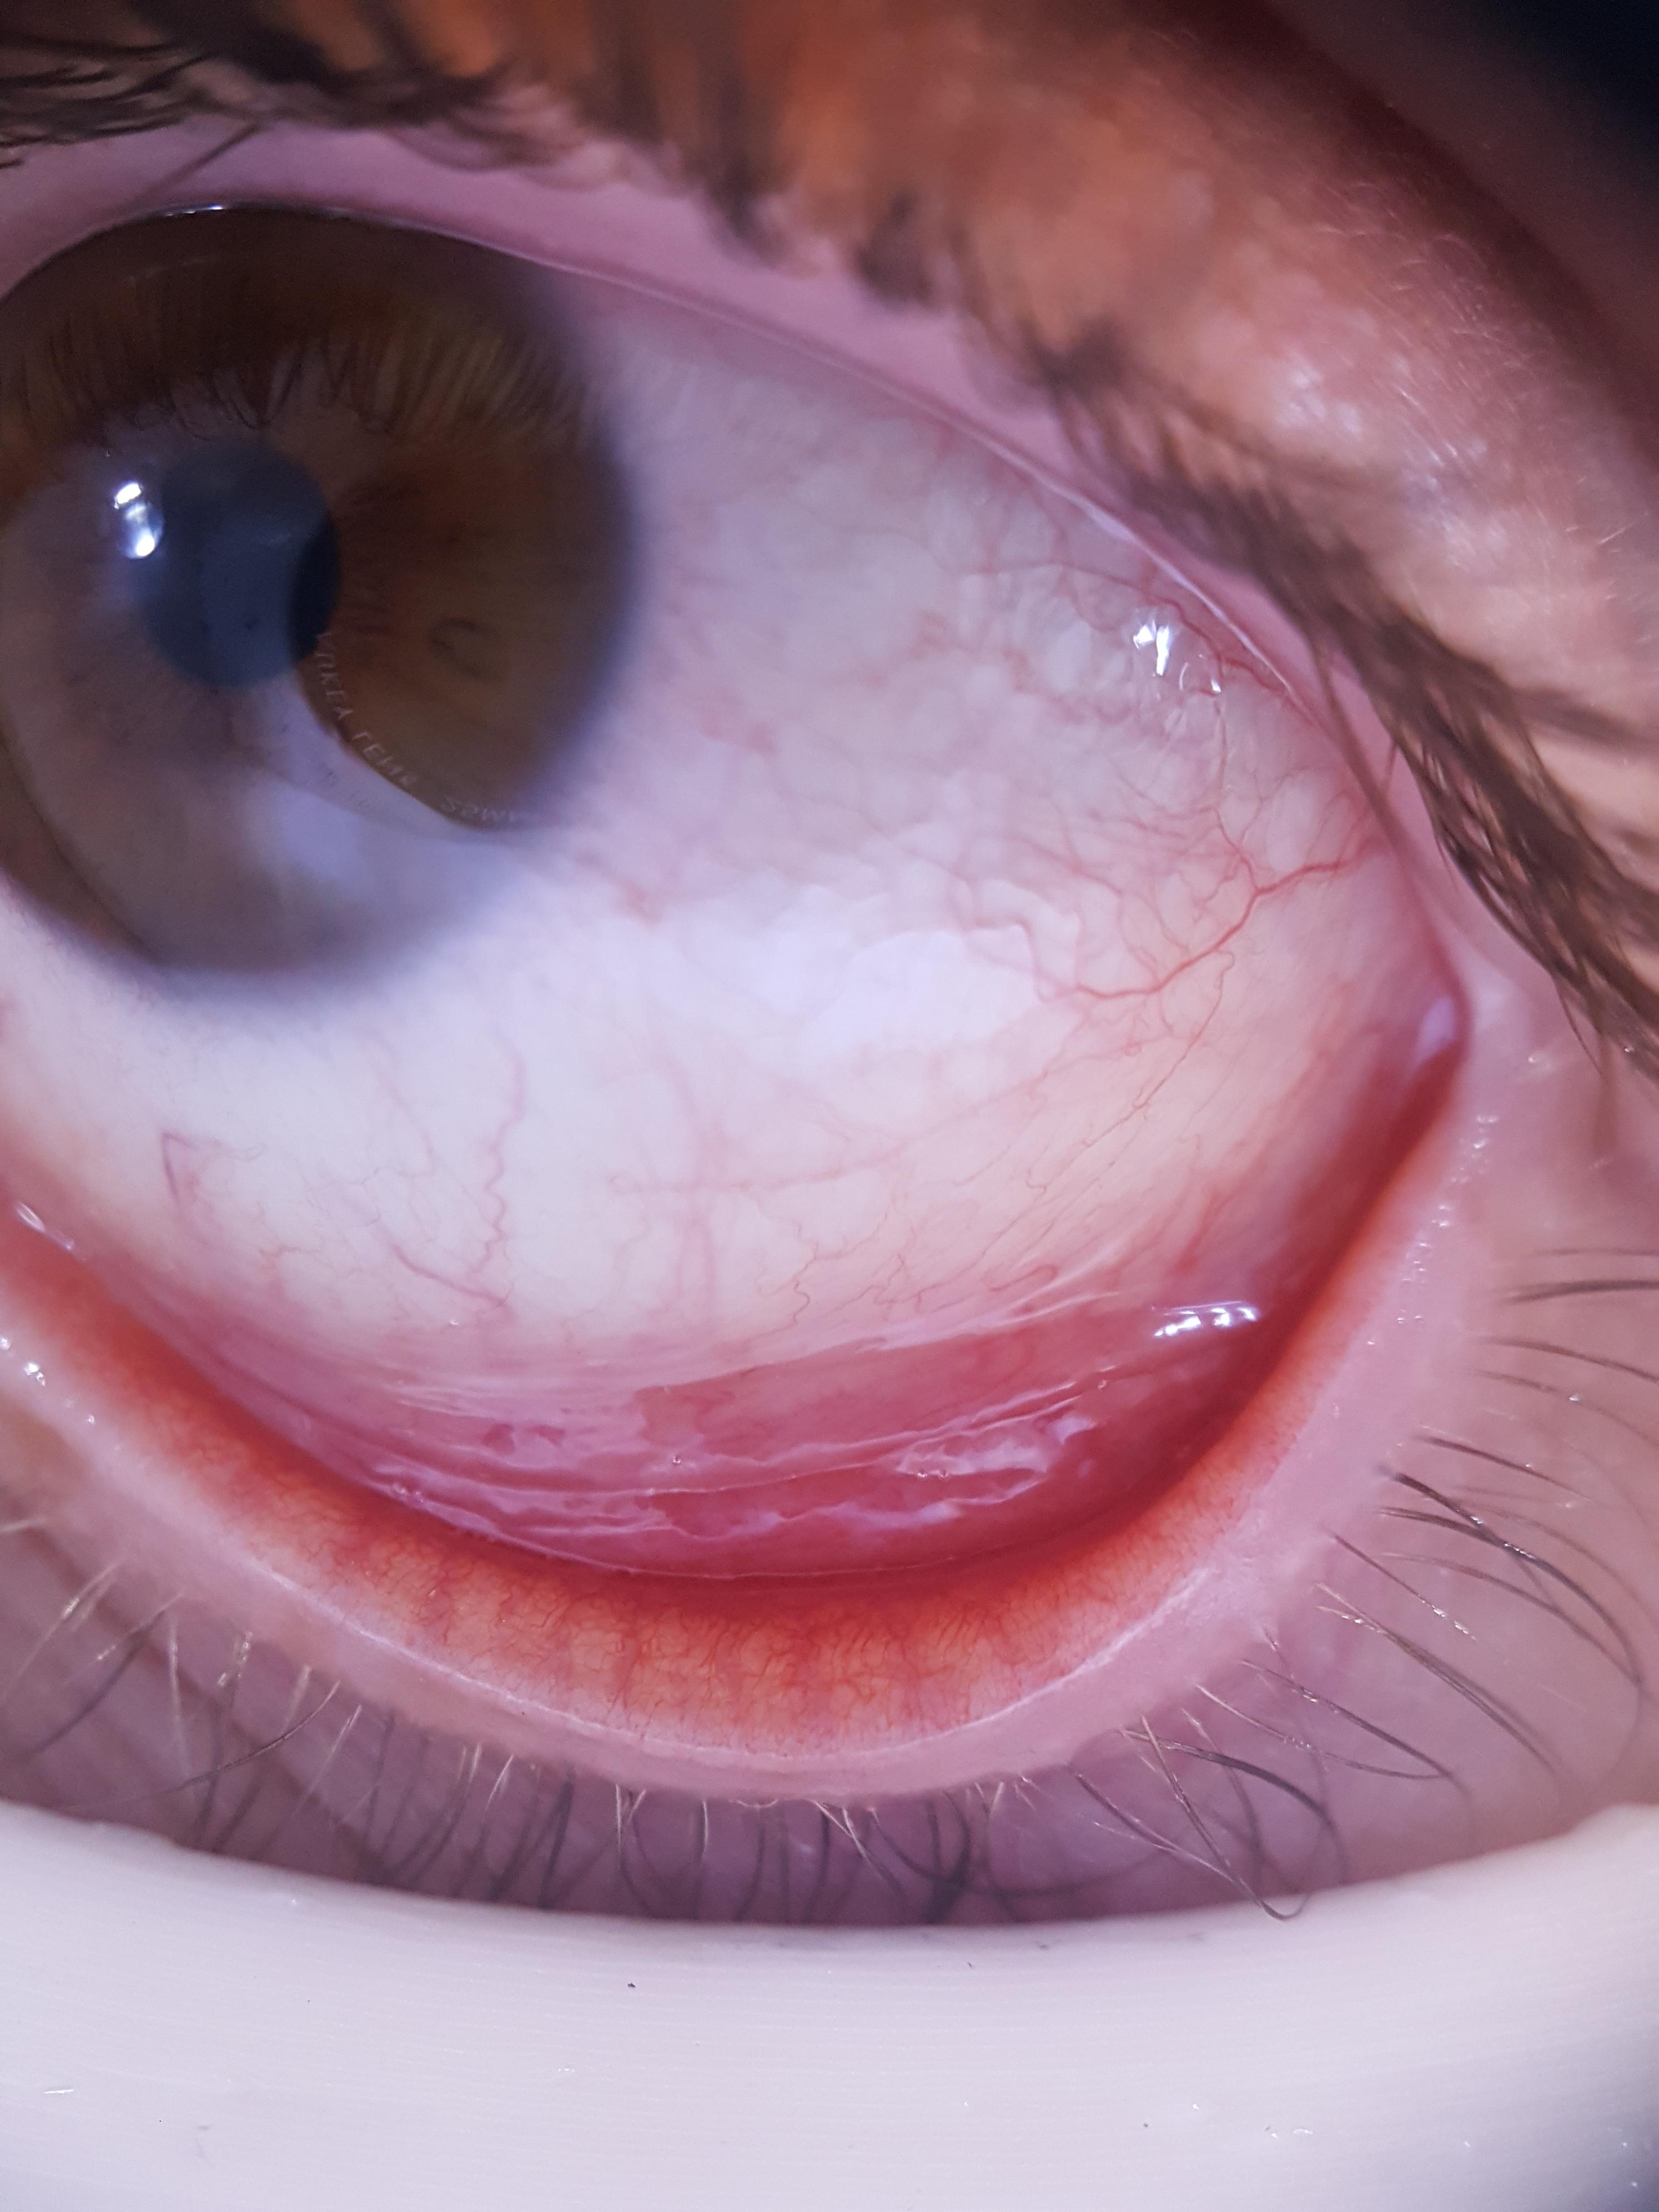forniceal: (0, 1111, 1265, 1571)
forniceal_palpebral: (0, 1106, 1385, 1710)
palpebral: (0, 1181, 1385, 1700)
